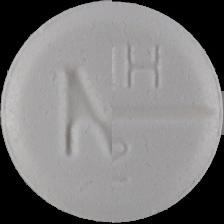0378-1902: (0, 0, 224, 224)
